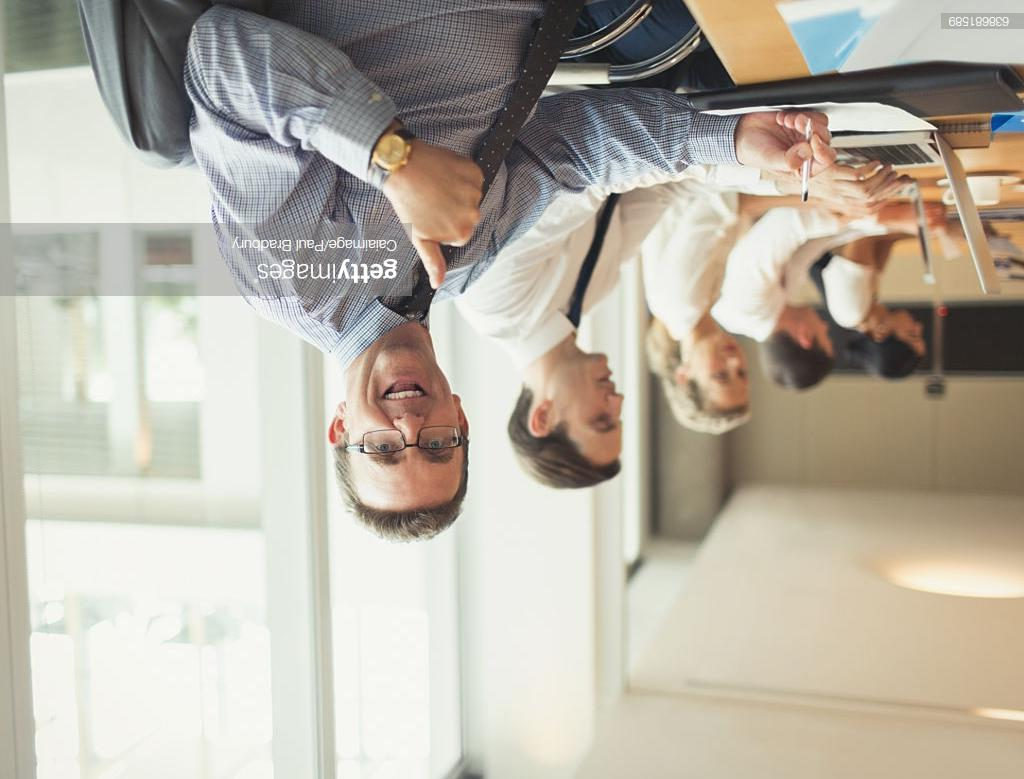thumbsdown: (422, 154, 485, 290)
